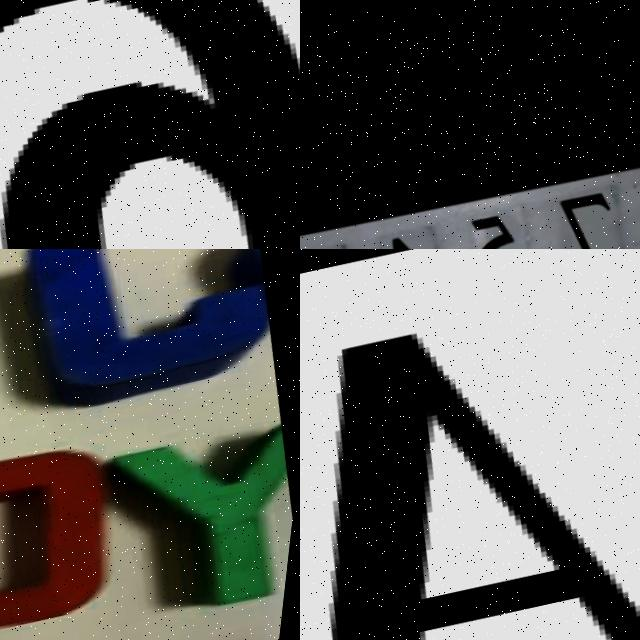4: (377, 216, 460, 249)
5: (465, 198, 546, 249)
6: (0, 0, 300, 249)
7: (551, 176, 640, 249)
A: (300, 249, 640, 640)
J: (6, 249, 290, 421)
O: (0, 432, 142, 640)
Y: (102, 416, 300, 623)
